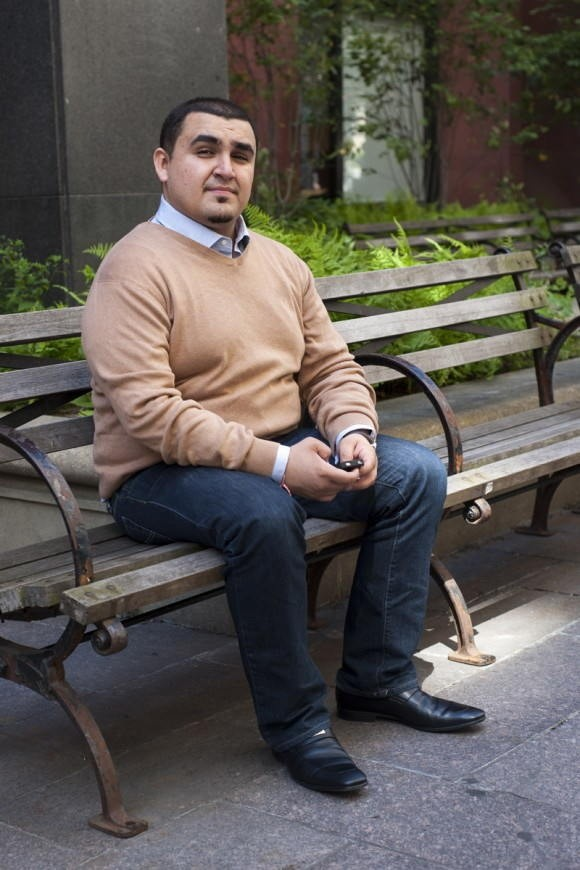face_no_mask: (154, 101, 258, 221)
